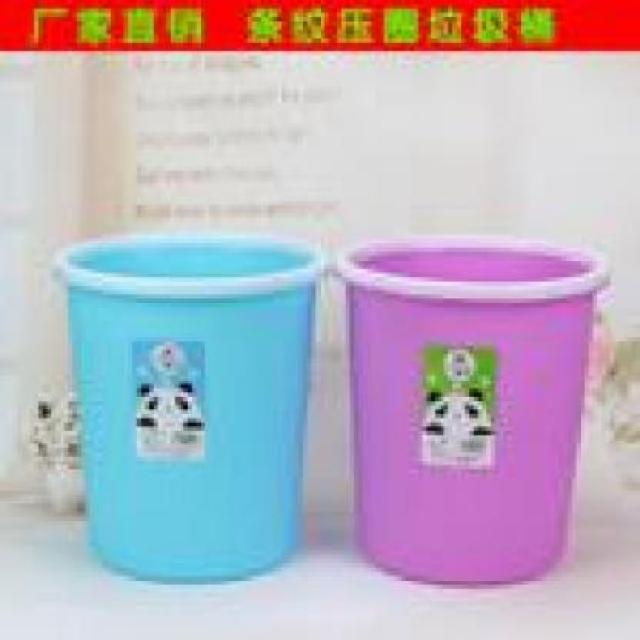dustbin: (46, 228, 332, 589), (334, 228, 619, 590)
